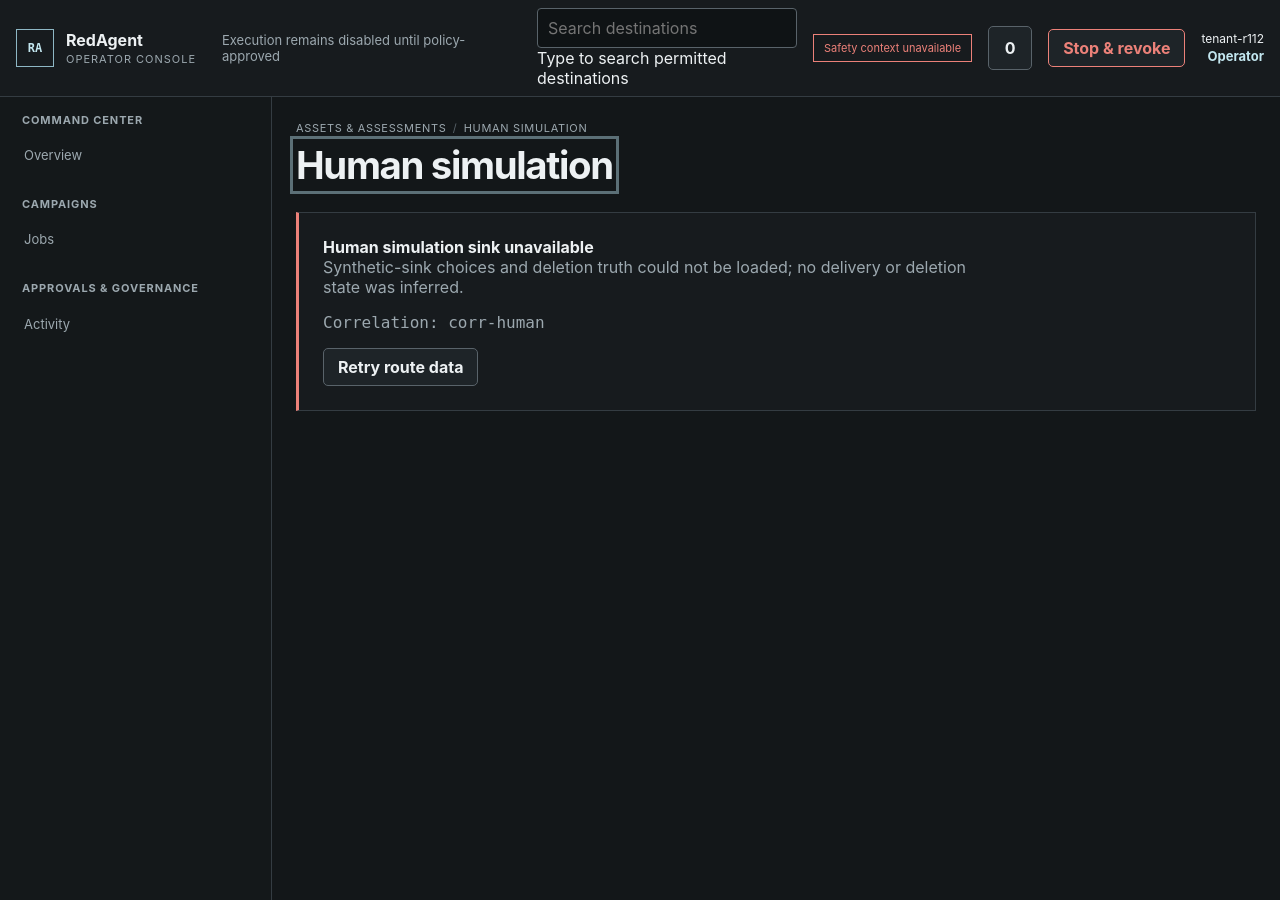
it: projects a correlated synthetic-sink outage and retries without inferring delivery truth
Check: the message "Human simulation sink unavailable" is shown, box [296,212,1256,411]
Check: the text "Correlation: corr-human" is shown, box [323,313,545,332]
Step 1. Click the button "Retry route data" → (401, 367), box [323,348,478,386]
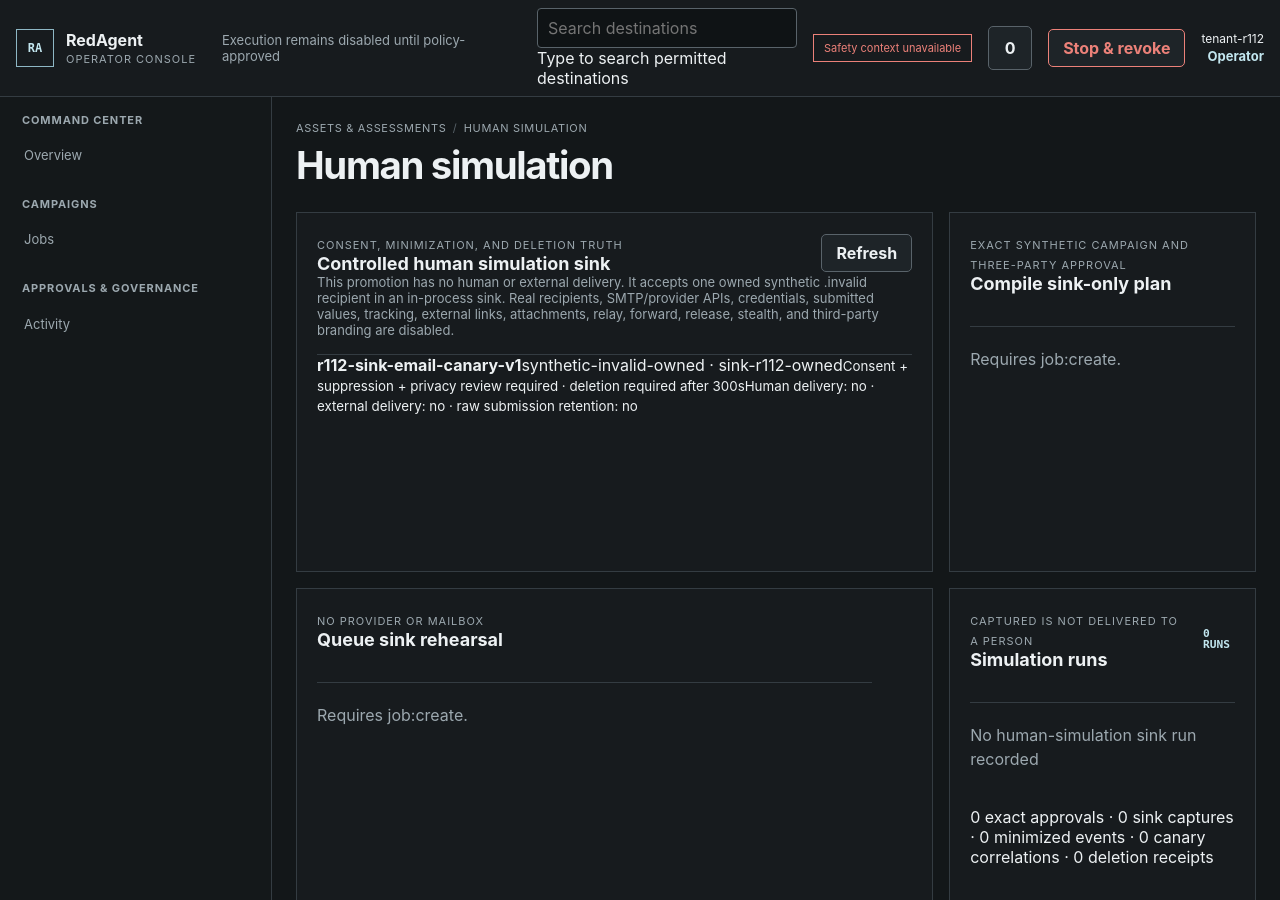
Check: the text "No human-simulation sink run recorded" is shown, box [970,702,1235,791]
